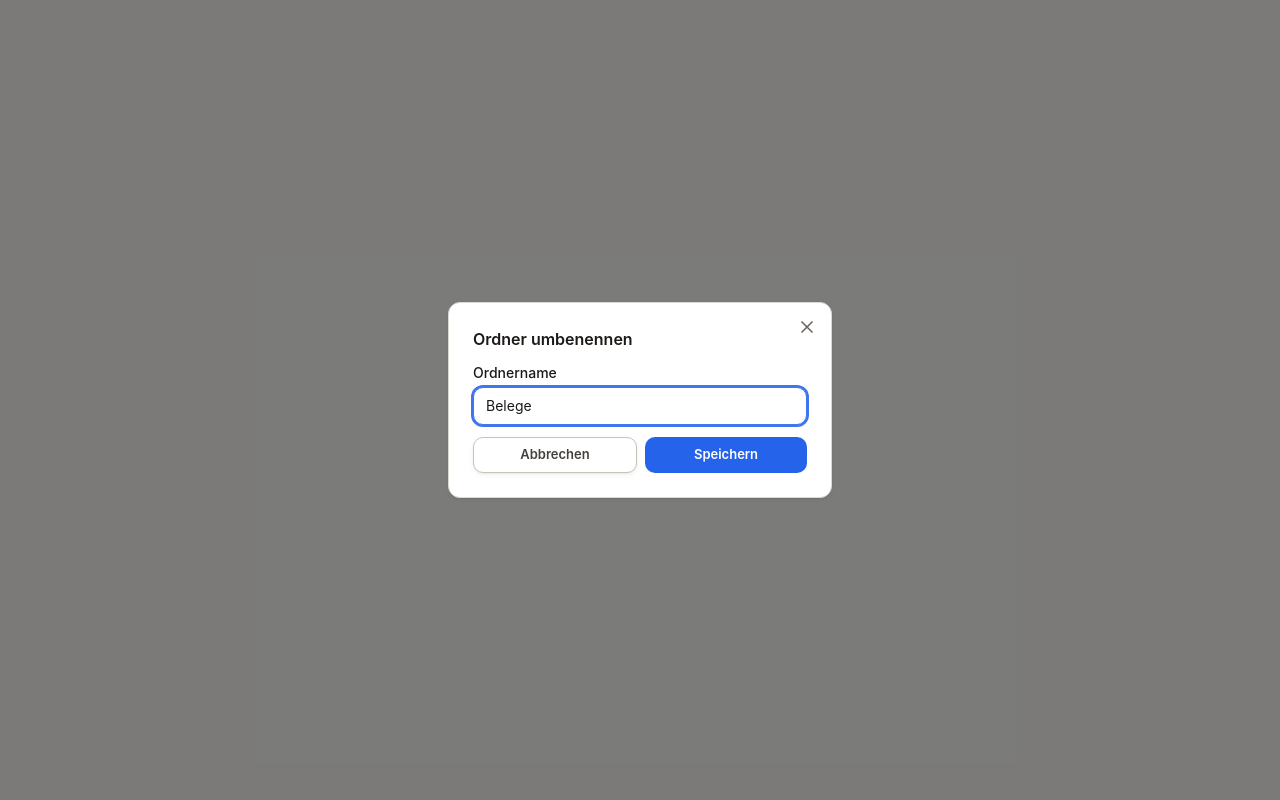
Test: InputModal › beschriftet die Eingabe und meldet Fehler am Feld und als Alert
Click the button "Speichern": (726, 455) top-left (645, 437), bottom-right (807, 473)
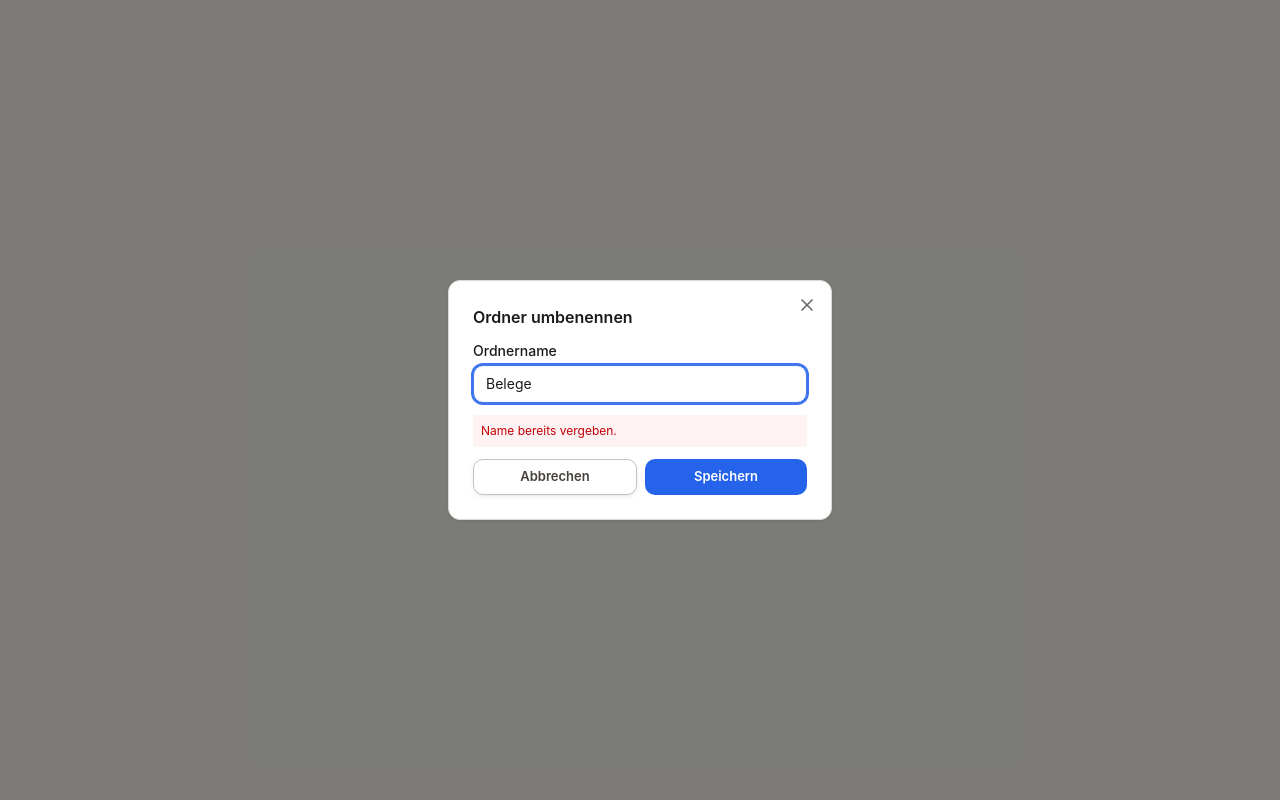
Now the message reads "Name bereits vergeben.", box top-left (481, 423), bottom-right (617, 438)
